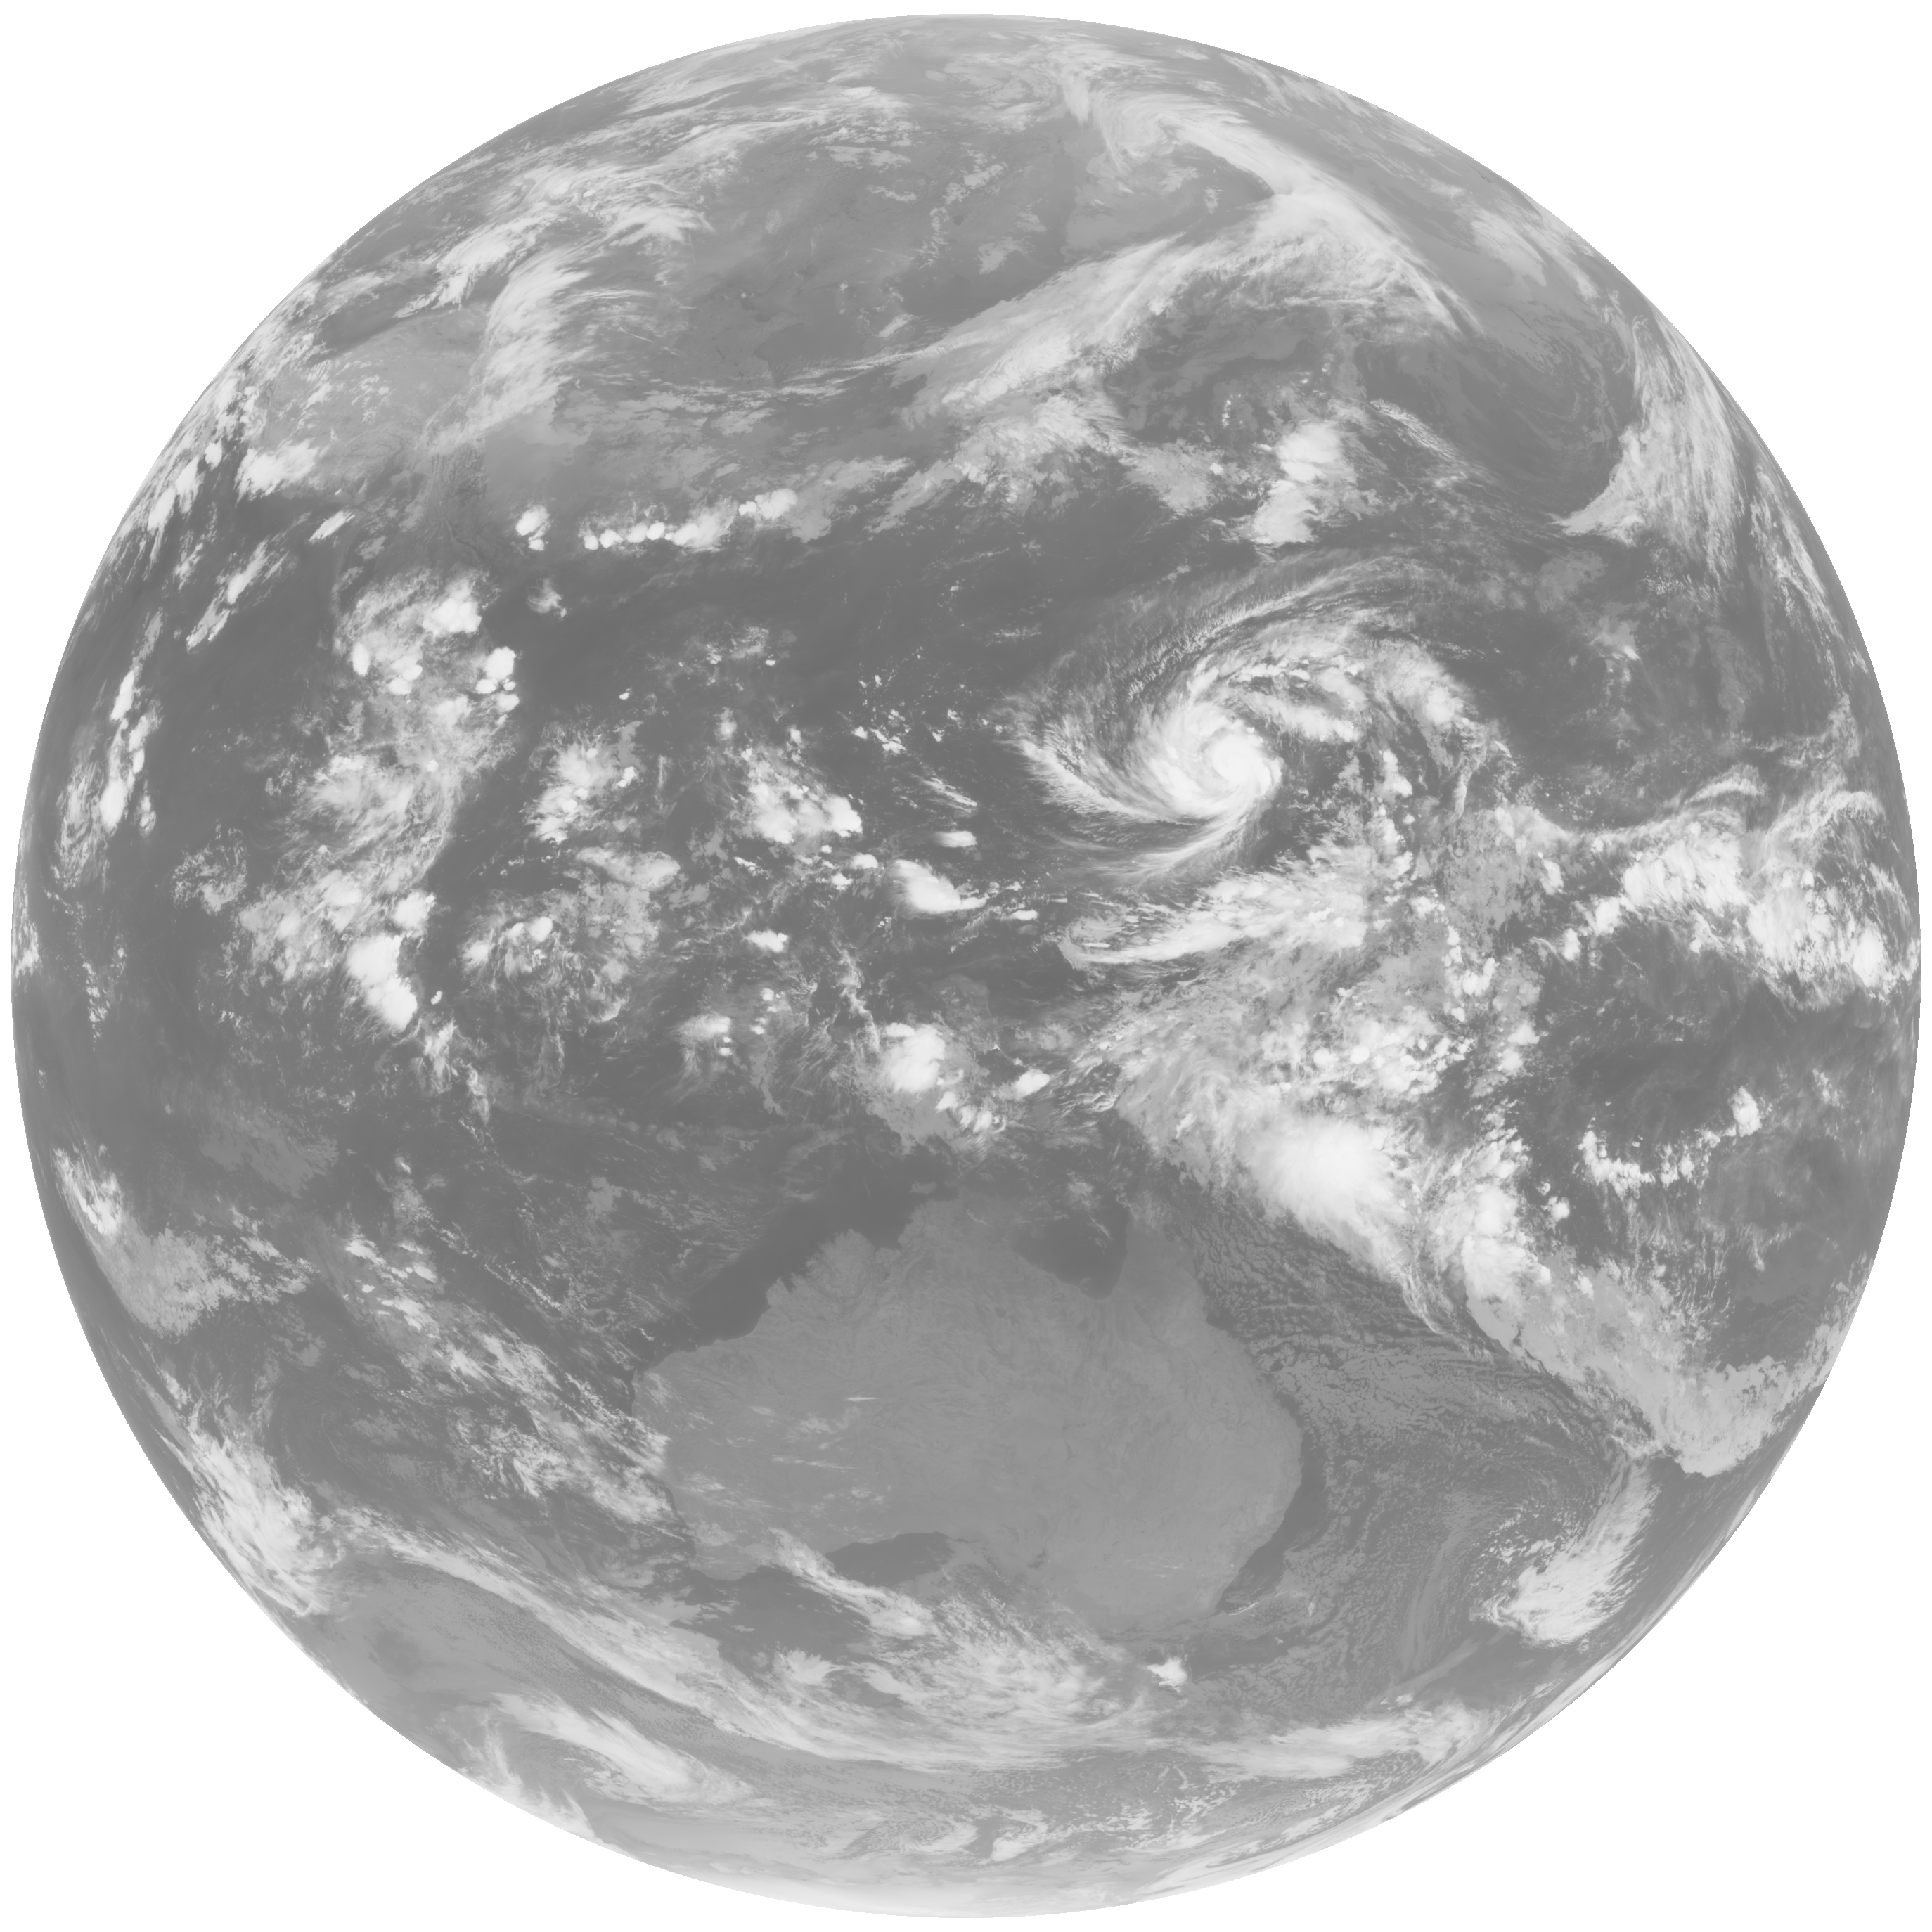typhoon: (980, 575, 1401, 915)
